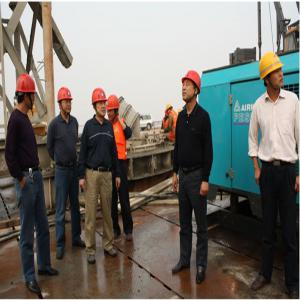red: (17, 73, 37, 112), (182, 70, 202, 105), (92, 86, 108, 119), (58, 88, 74, 115), (106, 93, 120, 122)
yellow: (259, 54, 285, 92), (167, 103, 173, 115)
